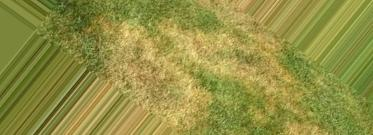patch: (116, 24, 170, 104), (182, 79, 202, 107), (190, 37, 210, 57), (260, 71, 279, 90), (237, 64, 255, 80), (266, 53, 283, 65)
